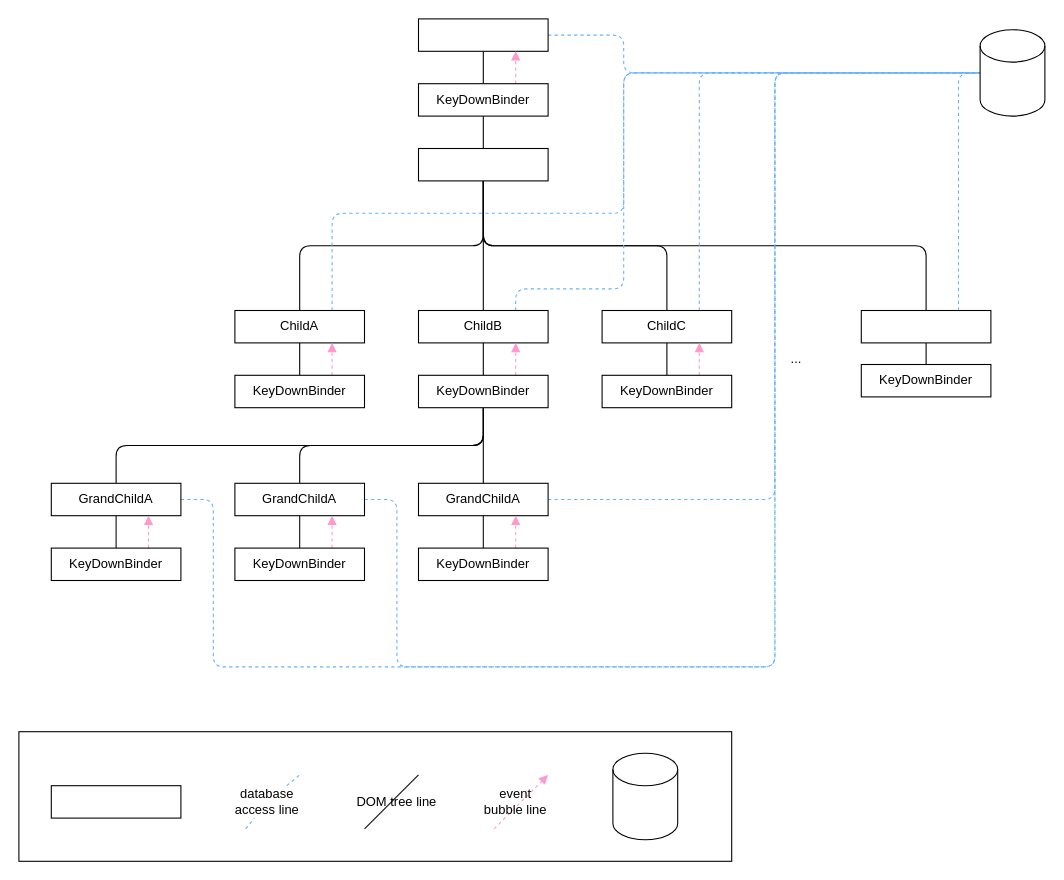
Image size: 1064x880. Some labels were removed from this diagram. Each missing label, with the box of its shape:
App: (417, 18, 548, 51)
children: (417, 147, 548, 181)
ChildX: (860, 309, 991, 343)
Embedded Database: (612, 752, 678, 840)
NeDB: (979, 29, 1045, 116)
React Component: (50, 785, 181, 818)
